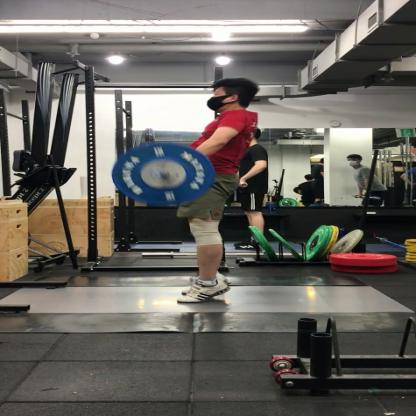Barbell: (105, 140, 219, 208)
